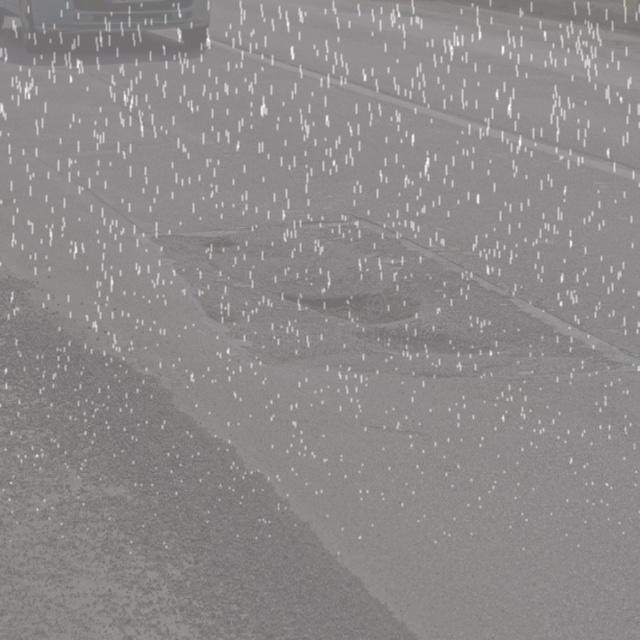Pothole: (267, 274, 509, 360), (182, 227, 246, 257)
